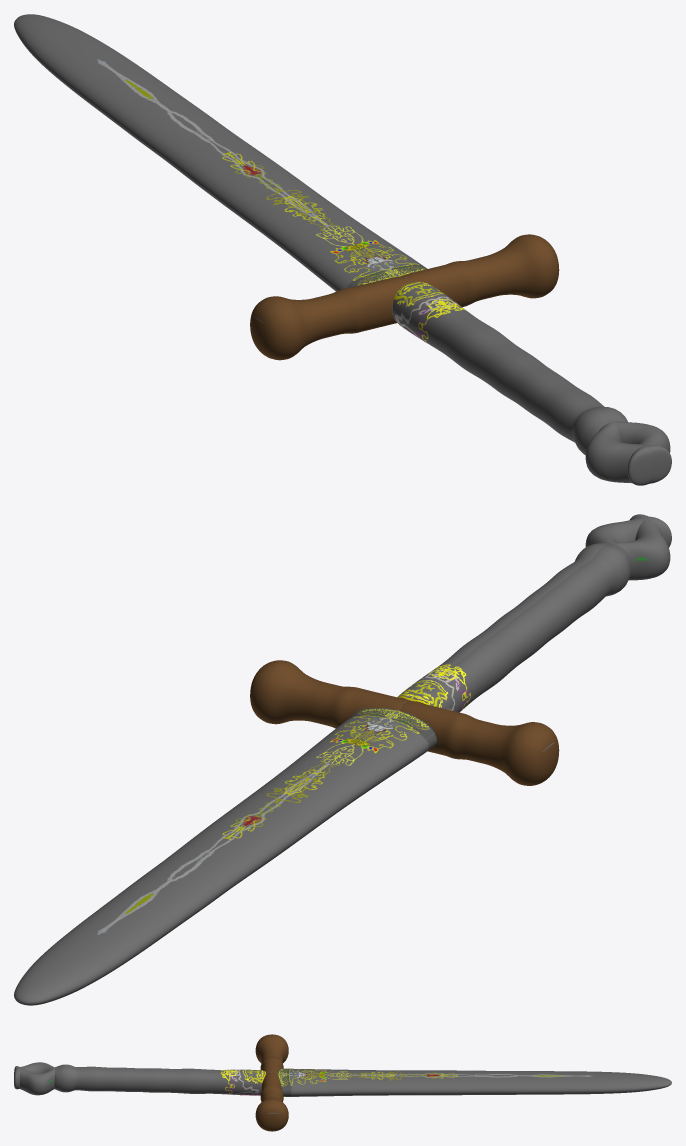
Rendered from SQK.fbx.
3 views of the same model, one above another, from view 1: azimuth 30°, elevation 25°; view 2: azimuth 150°, elevation 25°; view 3: azimuth 270°, elevation 25° (orthographic). The views are drawn at different scales.
Visible parts, largest first — view 1: Cube.001; view 2: Cube.001; view 3: Cube.001.
Part boxes in pixels (box(x1,y1,x2,y2)): Cube.001: box(14, 14, 671, 485); Cube.001: box(14, 514, 671, 1005); Cube.001: box(14, 1034, 671, 1131).
Size of the model in its own units: 639 by 125 by 2357.
